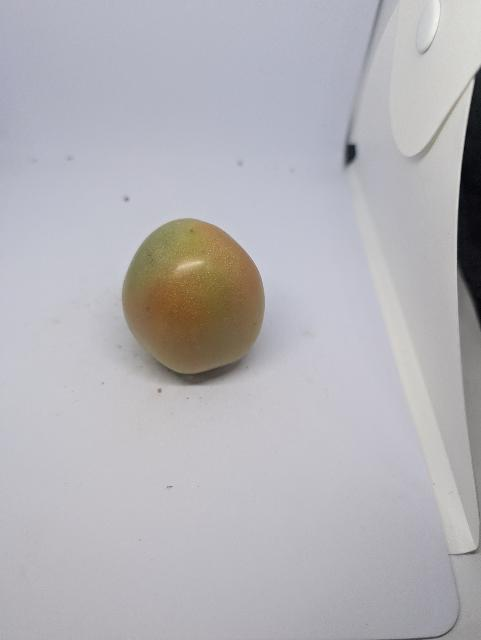turning: (120, 216, 271, 380)
